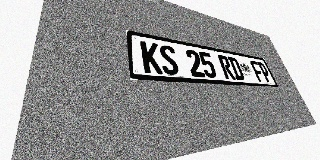2: (185, 49, 206, 77)
5: (198, 51, 218, 78)
D: (227, 56, 245, 80)
F: (249, 60, 266, 82)
K: (140, 41, 163, 74)
P: (257, 62, 273, 82)
R: (217, 55, 236, 80)
S: (158, 44, 180, 76)
